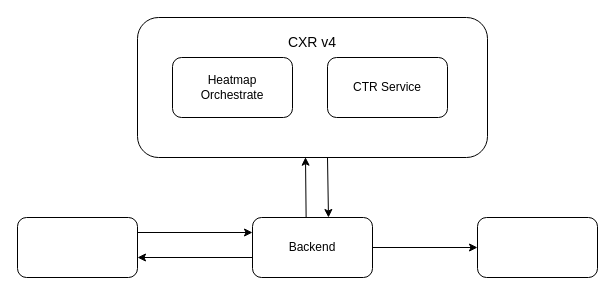
Image size: 615x295. Some labels were removed from this diagram. The box of each missing label's shape, as (x1, y1, x2, y2) in pixels:
Frontend: (16, 216, 138, 278)
Storage: (476, 216, 598, 278)
